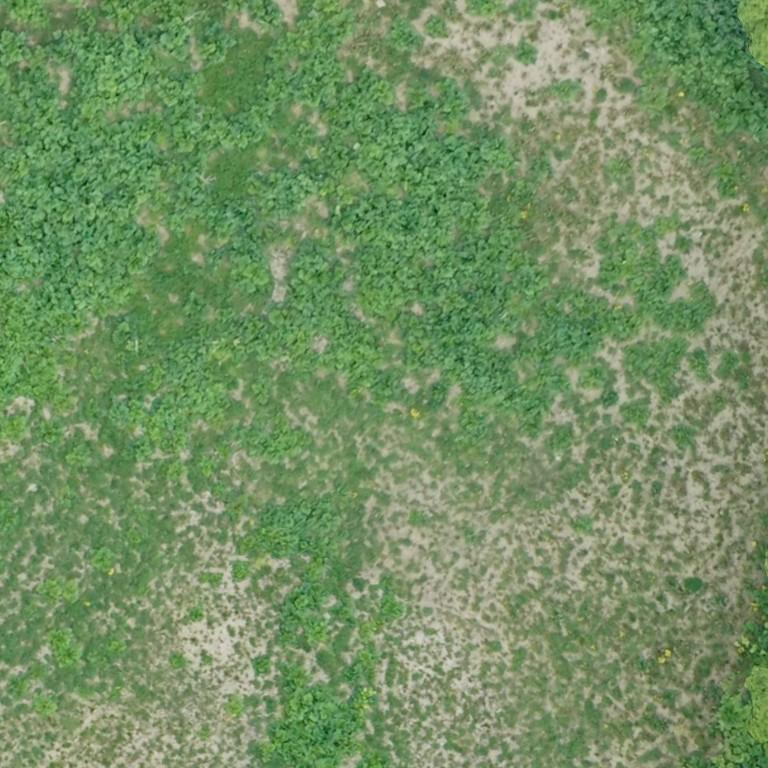hogweed: (206, 0, 641, 438), (0, 2, 288, 438), (107, 239, 402, 457), (583, 0, 767, 141), (239, 497, 339, 641), (253, 663, 391, 767), (600, 229, 712, 328), (624, 338, 689, 400), (239, 411, 310, 457), (225, 0, 283, 27), (201, 20, 234, 62), (385, 19, 423, 53), (343, 646, 374, 679), (2, 0, 46, 22), (379, 598, 401, 620)
